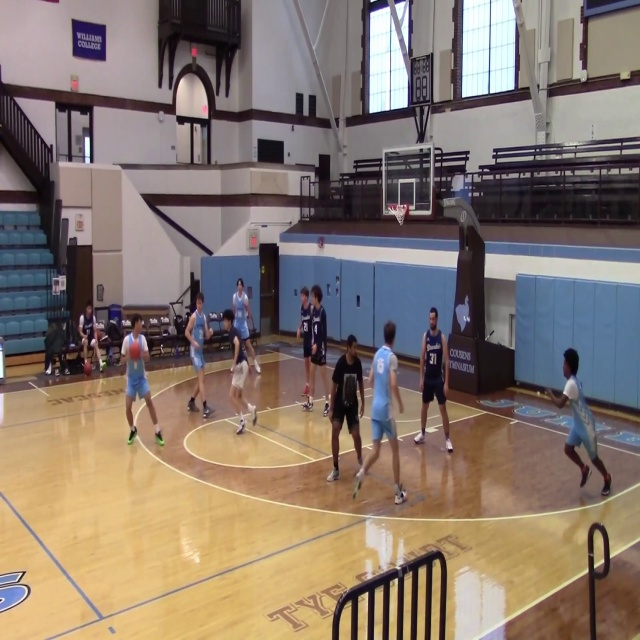Basketball: (129, 341, 140, 360)
